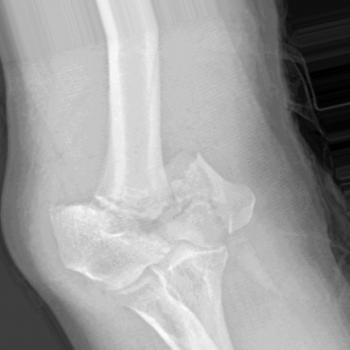Fracture: (160, 142, 214, 194)
